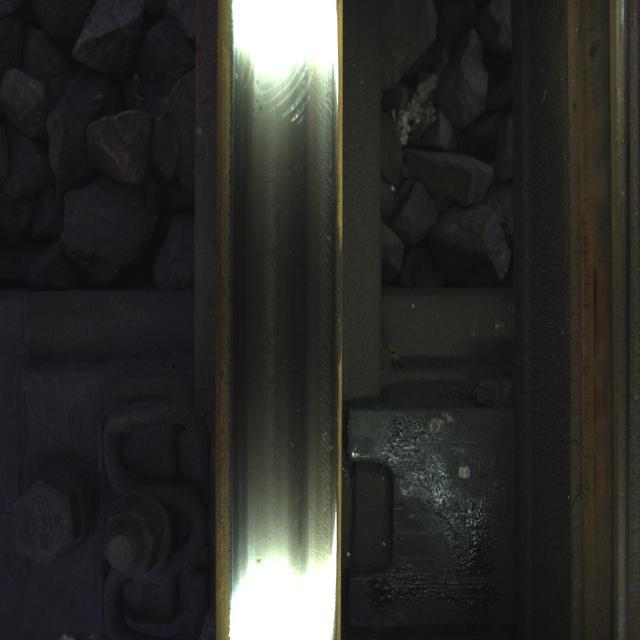break: (236, 55, 322, 551)
